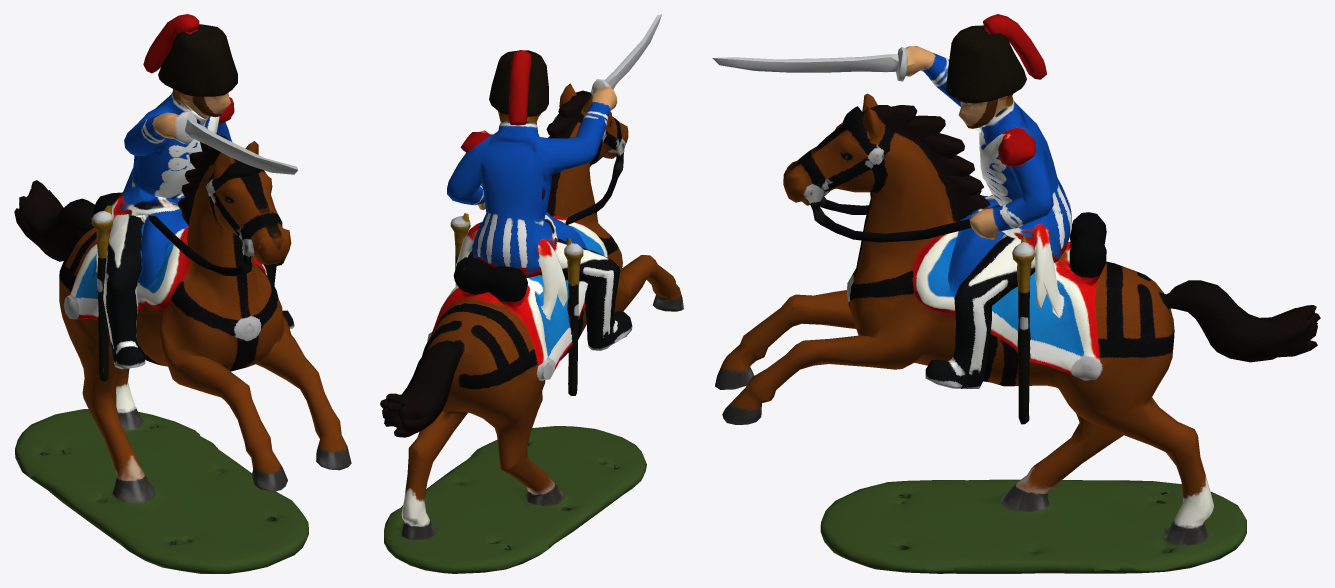
Rendered from cav_charge.glb.
The picture shows the model from 3 angles, left to right: view 1: azimuth 30°, elevation 25°; view 2: azimuth 150°, elevation 25°; view 3: azimuth 270°, elevation 25°; orthographic projection. The views are drawn at different scales.
Visible parts, largest first — view 1: world; view 2: world; view 3: world.
Part boxes in pixels (x1=…): world: x1=14, y1=14, x2=351, y2=573; world: x1=380, y1=14, x2=683, y2=573; world: x1=712, y1=14, x2=1320, y2=573.
Size of the model in its own units: 0.3457 by 0.9394 by 0.9908.
Materials: 1 (1 with a texture image).
